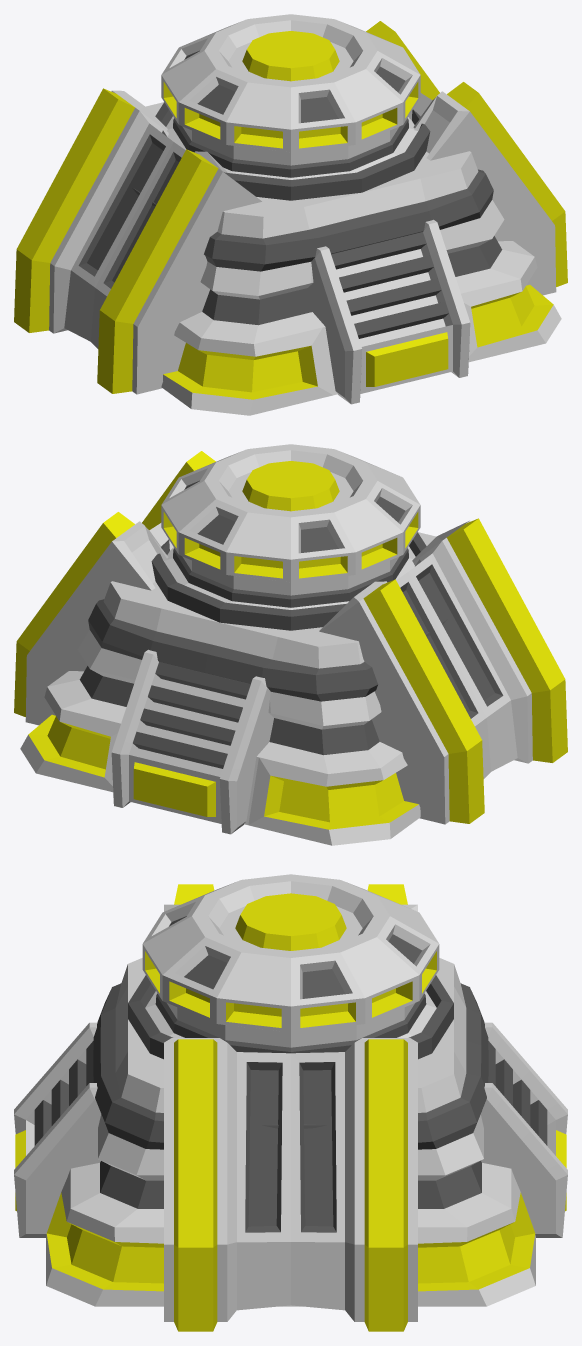
Rendered from bastion.fbx.
3 views of the same model, one above another, from view 1: azimuth 30°, elevation 25°; view 2: azimuth 150°, elevation 25°; view 3: azimuth 270°, elevation 25° (orthographic). The views are drawn at different scales.
Parts seen in each view (by area): view 1: polySurface1; view 2: polySurface1; view 3: polySurface1.
Part boxes in pixels (x1,y1,x2,y2): polySurface1: (14, 14, 567, 415); polySurface1: (14, 444, 567, 845); polySurface1: (14, 874, 567, 1331).
Size of the model in its own units: 2.37 by 1.26 by 2.18.
